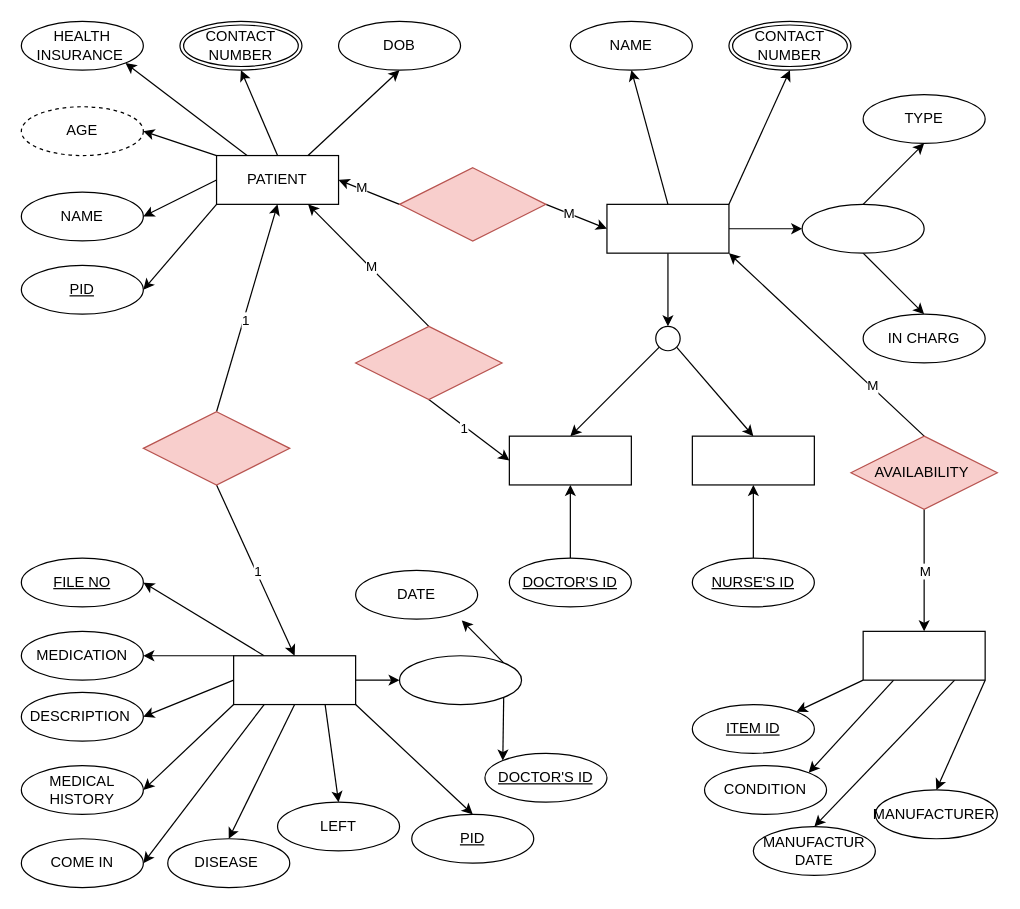
Some shapes in this 1020 by 909 pixel diagram are drawn without their labels. The centre of each missing label's shape, as x and y in pixels:
"ASSIGN" belongs at point (428, 362).
"DEPARTMENT" belongs at point (862, 228).
"DOCTOR" belongs at point (569, 460).
"EQUIPMENT" belongs at point (923, 655).
"HAS" belongs at point (216, 448).
"MEDICAL STAFF" belongs at point (667, 228).
"NURSE" belongs at point (752, 460).
"RECORD" belongs at point (294, 680).
"SPECIAL TREATMENT" belongs at point (460, 680).
"TREAT" belongs at point (472, 204).
